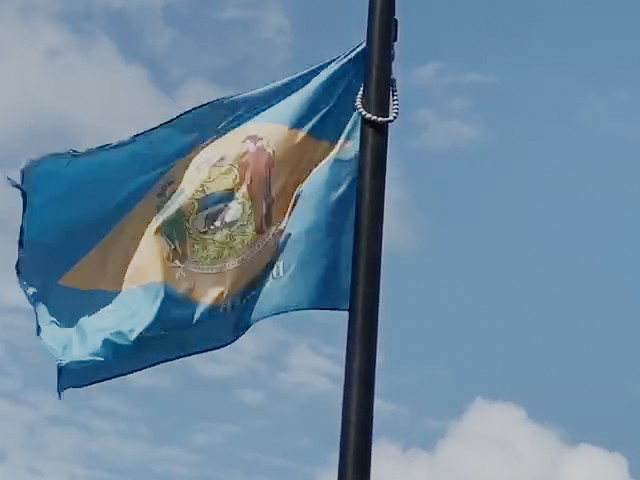Delaware flag: (8, 37, 369, 397)
